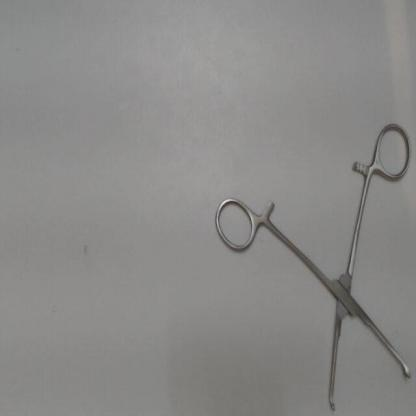Allis Tissue Forceps: (208, 114, 416, 415)
